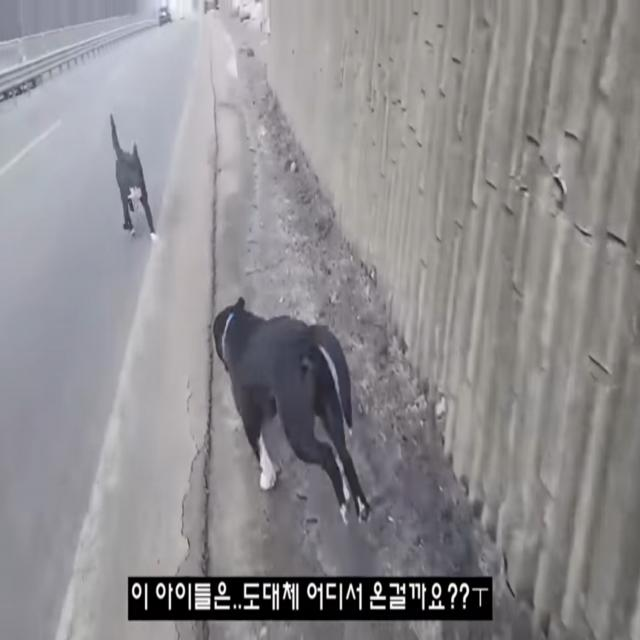dog: (203, 282, 384, 536), (98, 108, 162, 260)
